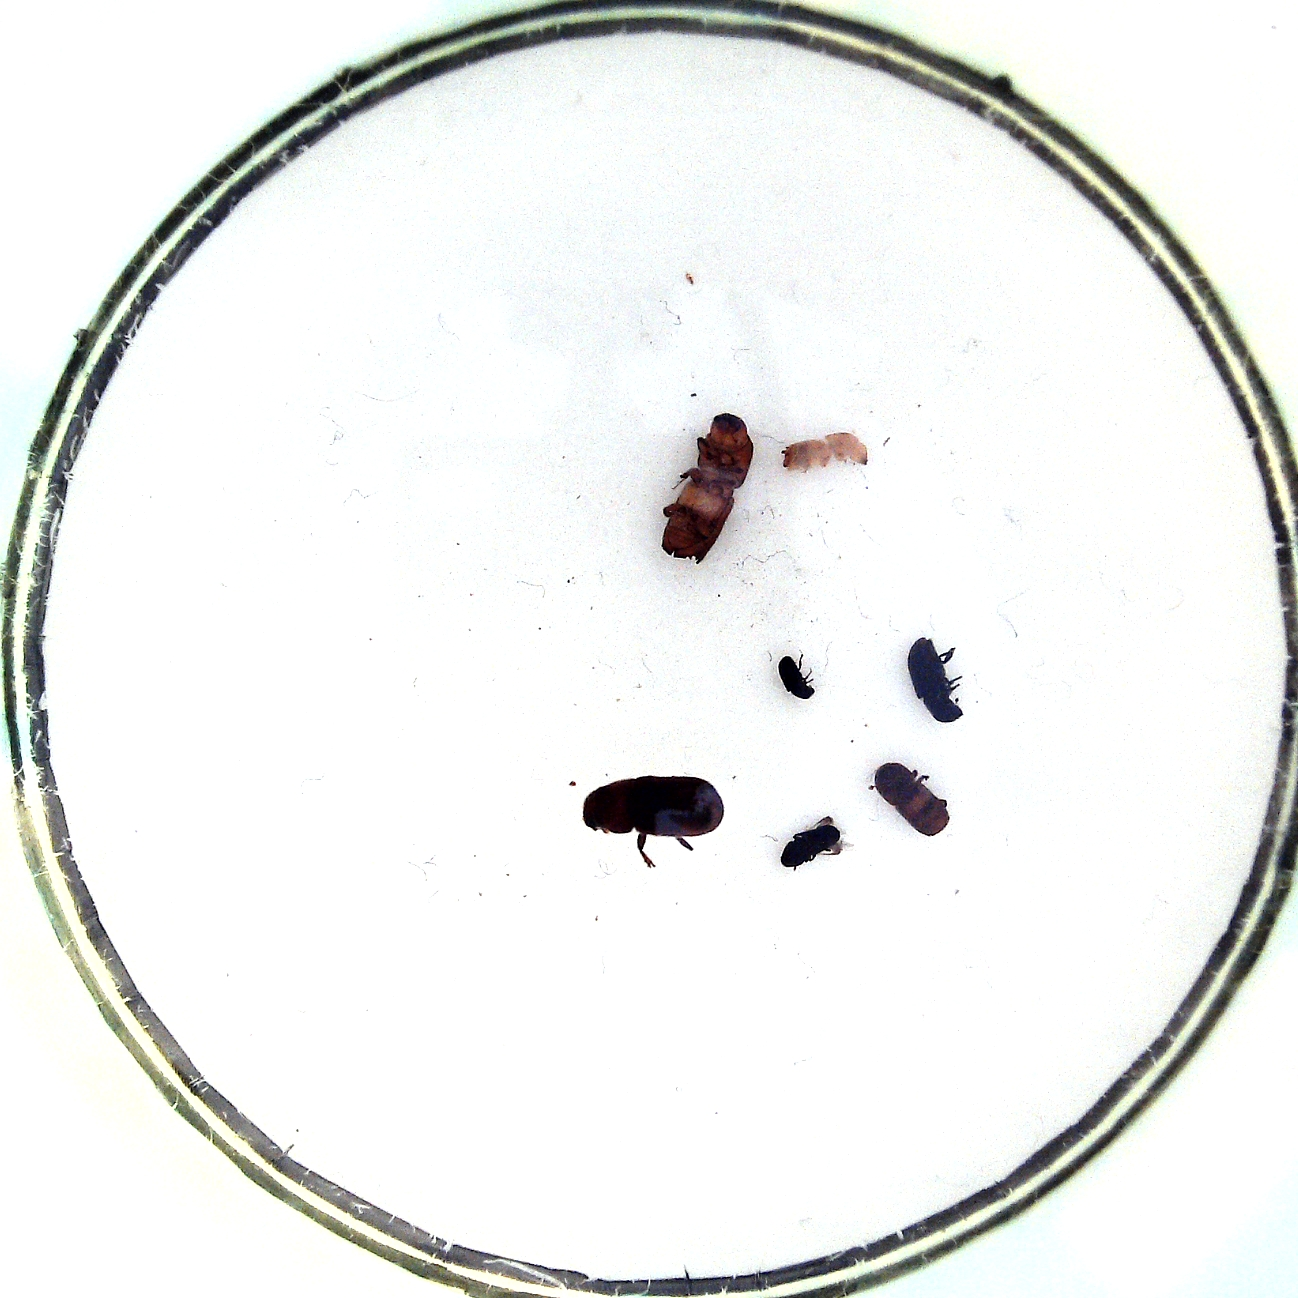Boerner: (653, 407, 758, 561)
Leconte: (576, 770, 730, 870)
Linnaeus: (868, 757, 954, 842)
acuminatus: (780, 427, 876, 478)
armandi: (893, 632, 968, 725)
coleoptera: (767, 812, 850, 870), (770, 648, 819, 702)
